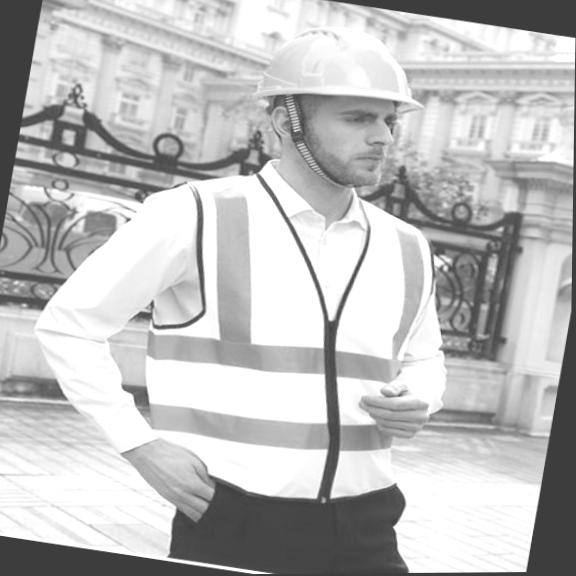safety_vest: (16, 131, 487, 503)
